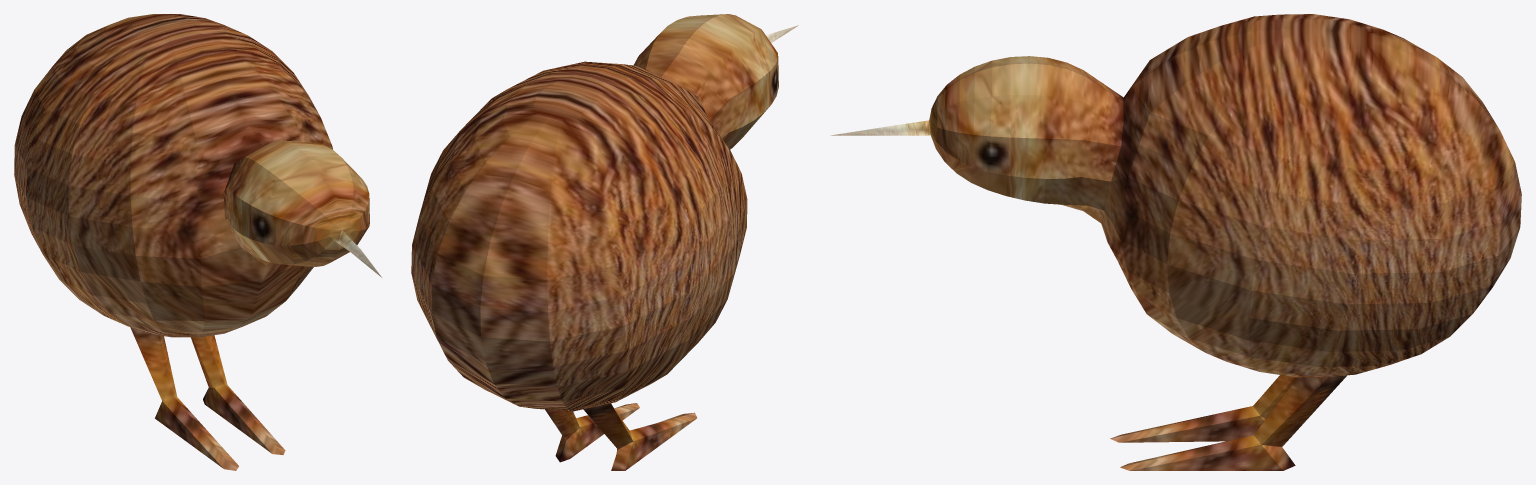
File: kiwi-simplem.glb
3 views of the same model, side by side, from view 1: azimuth 30°, elevation 25°; view 2: azimuth 150°, elevation 25°; view 3: azimuth 270°, elevation 25° (orthographic). The views are drawn at different scales.
Parts seen in each view (by area): view 1: Sphere; view 2: Sphere; view 3: Sphere.
Boxes of the visible parts, x1,y1,x2,y2 form: Sphere: (14, 14, 381, 470); Sphere: (411, 14, 798, 470); Sphere: (830, 14, 1521, 470).
Bounding box in the file's own units: 1.84 × 2.55 × 3.78.
Materials: 1 (1 with a texture image).
